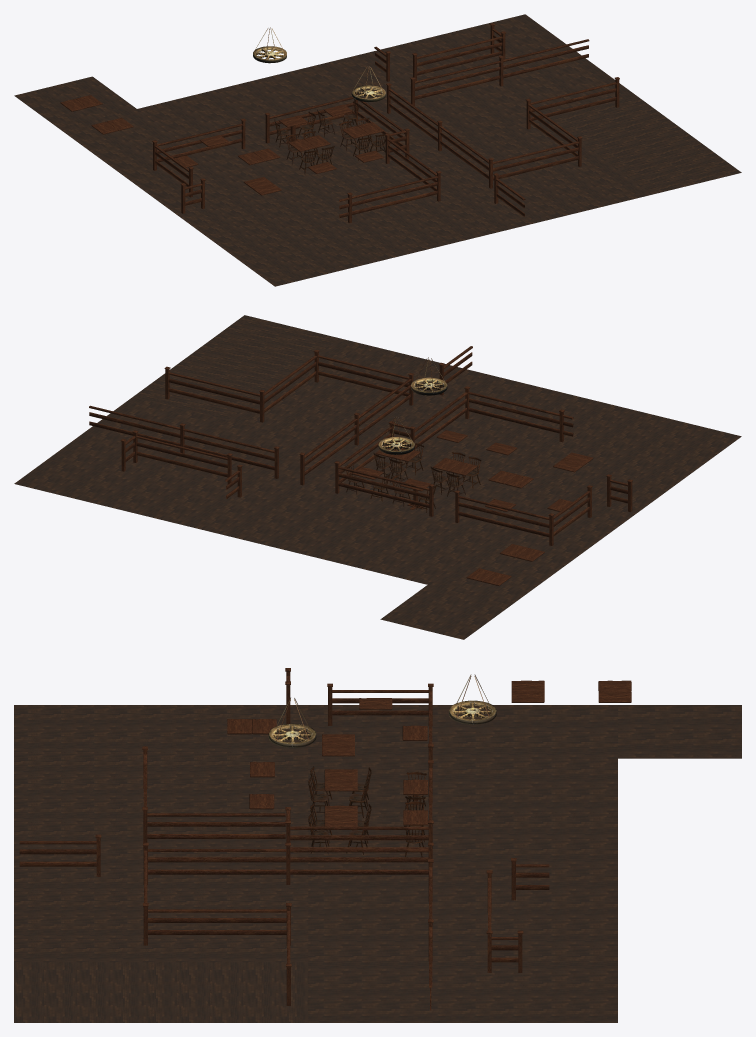
File: SalaOWW_RT_001.glb
3 renders of one model, top to bottom at view 1: azimuth 30°, elevation 25°; view 2: azimuth 150°, elevation 25°; view 3: azimuth 270°, elevation 25°, orthographic. The views are drawn at different scales.
Parts seen in each view (by area): view 1: floor_A_mesh, floor_B_mesh, bordo_mesh, Table_B, Table_A, RuoteCarro_bake_mesh.001, RuoteCarro_bake_mesh.004; view 2: floor_B_mesh, floor_A_mesh, bordo_mesh, Table_B, Table_A, RuoteCarro_bake_mesh.004, RuoteCarro_bake_mesh.001; view 3: floor_B_mesh, floor_A_mesh, bordo_mesh, Table_B, Table_A, RuoteCarro_bake_mesh.004, RuoteCarro_bake_mesh.001.
Part boxes in pixels (x1,y1,x2,y2): floor_A_mesh: (170,95,741,286); floor_B_mesh: (14,14,635,209); bordo_mesh: (152,23,619,223); Table_B: (238,122,384,195); Table_A: (60,95,352,167); RuoteCarro_bake_mesh.001: (253,27,286,63); RuoteCarro_bake_mesh.004: (351,66,385,102); floor_B_mesh: (14,397,628,639); floor_A_mesh: (133,315,741,518); bordo_mesh: (89,346,632,545); Table_B: (375,430,593,488); Table_A: (352,467,575,585); RuoteCarro_bake_mesh.004: (411,357,447,395); RuoteCarro_bake_mesh.001: (378,416,414,454); floor_B_mesh: (308,705,741,1022); floor_A_mesh: (14,705,308,1022); bordo_mesh: (19,668,549,1010); Table_B: (227,719,357,826); Table_A: (359,680,631,825); RuoteCarro_bake_mesh.004: (268,697,316,747); RuoteCarro_bake_mesh.001: (449,674,496,724).
Size of the model in its own units: 18.2 by 3.71 by 17.62.
8 materials, 8 textured.
